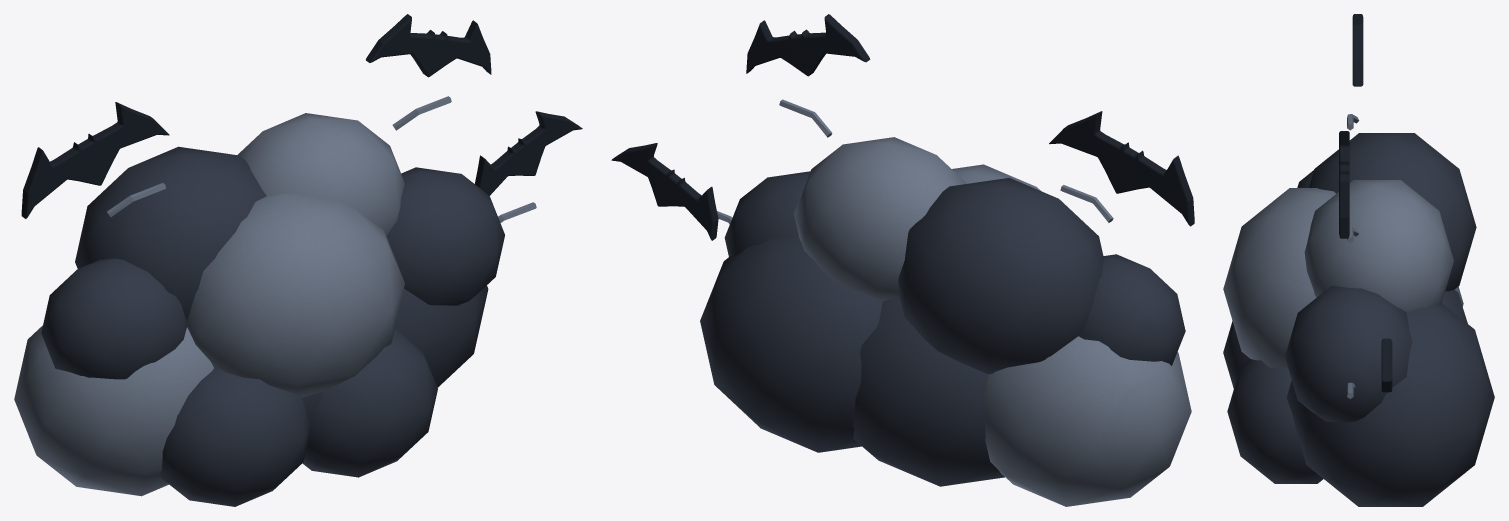
The model's file is Bat_Smoke_Cloud.fbx.
The picture shows the model from 3 angles, left to right: view 1: azimuth 30°, elevation 25°; view 2: azimuth 150°, elevation 25°; view 3: azimuth 270°, elevation 25°; orthographic projection. The views are drawn at different scales.
Parts seen in each view (by area): view 1: Bat_Smoke_Cloud__Body__smoke_dark, Bat_Smoke_Cloud__Body__smoke_mid, Bat_Smoke_Cloud__Bats__bat_matte, Bat_Smoke_Cloud__Bats__smoke_mid; view 2: Bat_Smoke_Cloud__Body__smoke_dark, Bat_Smoke_Cloud__Body__smoke_mid, Handle, Bat_Smoke_Cloud__Bats__bat_matte, Bat_Smoke_Cloud__Bats__smoke_mid; view 3: Bat_Smoke_Cloud__Body__smoke_dark, Bat_Smoke_Cloud__Body__smoke_mid, Bat_Smoke_Cloud__Bats__bat_matte, Handle, Bat_Smoke_Cloud__Bats__smoke_mid.
Part boxes in pixels (x1,y1,x2,y2): Bat_Smoke_Cloud__Body__smoke_dark: (41,146,504,506); Bat_Smoke_Cloud__Body__smoke_mid: (14,113,404,496); Bat_Smoke_Cloud__Bats__bat_matte: (21,14,582,218); Bat_Smoke_Cloud__Bats__smoke_mid: (107,96,536,222); Bat_Smoke_Cloud__Body__smoke_dark: (700,171,1185,452); Bat_Smoke_Cloud__Body__smoke_mid: (794,137,1191,506); Handle: (853,296,1004,486); Bat_Smoke_Cloud__Bats__bat_matte: (611,14,1194,240); Bat_Smoke_Cloud__Bats__smoke_mid: (717,99,1113,224); Bat_Smoke_Cloud__Body__smoke_dark: (1223,133,1494,506); Bat_Smoke_Cloud__Body__smoke_mid: (1223,180,1463,367); Bat_Smoke_Cloud__Bats__bat_matte: (1339,14,1392,392); Handle: (1442,289,1467,323); Bat_Smoke_Cloud__Bats__smoke_mid: (1347,114,1359,398).
Size of the model in its own units: 3.17 by 2.25 by 1.41.
Materials: 3 (3 with a texture image).
